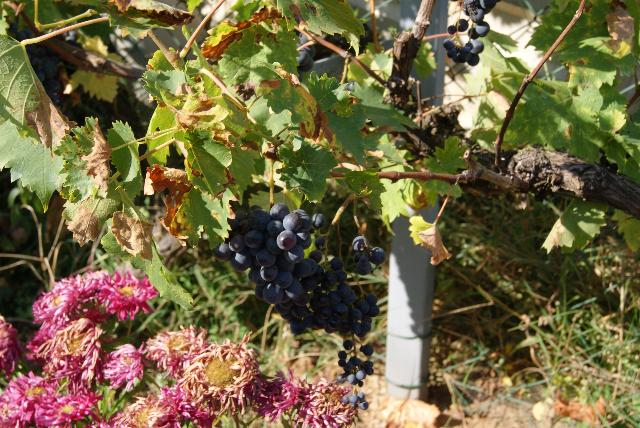grapes: (214, 202, 325, 304), (290, 258, 379, 339), (338, 340, 374, 386), (352, 236, 386, 275), (342, 392, 369, 409)
